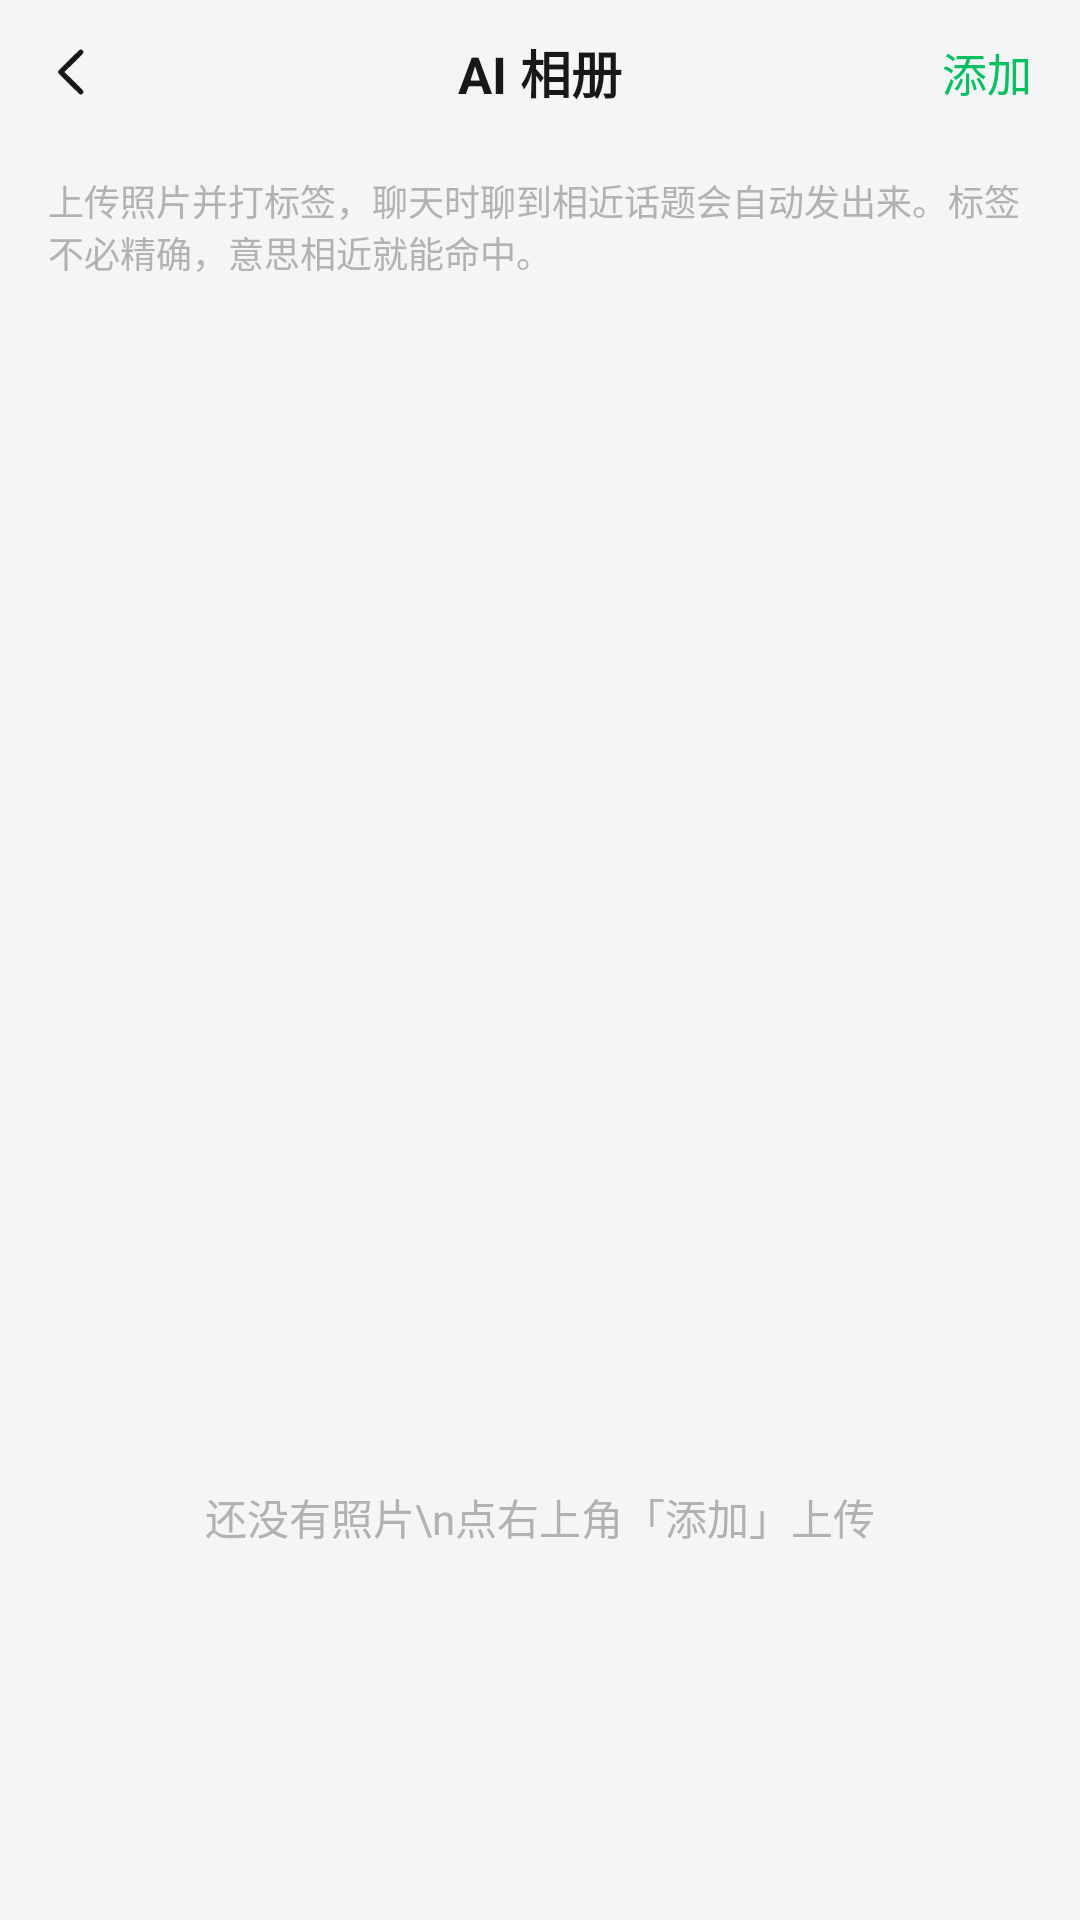

Icon bounding boxes for this 1080px x 1920px phone screenshot, format [left=x1, top=y1, right=x2, bottom=y2]:
返回: [left=58, top=49, right=84, bottom=95]
